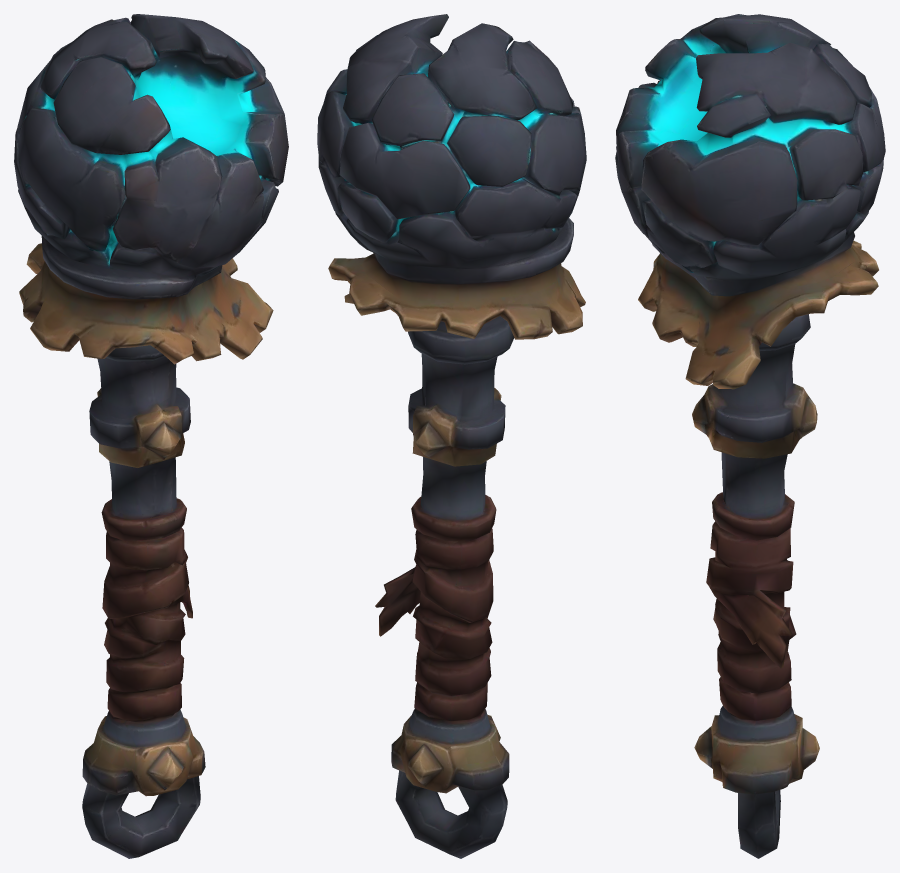
File: tll_ch1_clapper.glb
The picture shows the model from 3 angles, left to right: view 1: azimuth 30°, elevation 25°; view 2: azimuth 150°, elevation 25°; view 3: azimuth 270°, elevation 25°; orthographic projection.
Parts seen in each view (by area): view 1: tripo_node_d227f8ef-e6fa-45e3-b169-02e46780c90b; view 2: tripo_node_d227f8ef-e6fa-45e3-b169-02e46780c90b; view 3: tripo_node_d227f8ef-e6fa-45e3-b169-02e46780c90b.
Part boxes in pixels (x1,y1,x2,y2): tripo_node_d227f8ef-e6fa-45e3-b169-02e46780c90b: [14, 14, 288, 858]; tripo_node_d227f8ef-e6fa-45e3-b169-02e46780c90b: [317, 14, 586, 858]; tripo_node_d227f8ef-e6fa-45e3-b169-02e46780c90b: [615, 14, 885, 858].
Size of the model in its own units: 0.2546 by 0.85 by 0.2519.
1 material, 1 textured.
